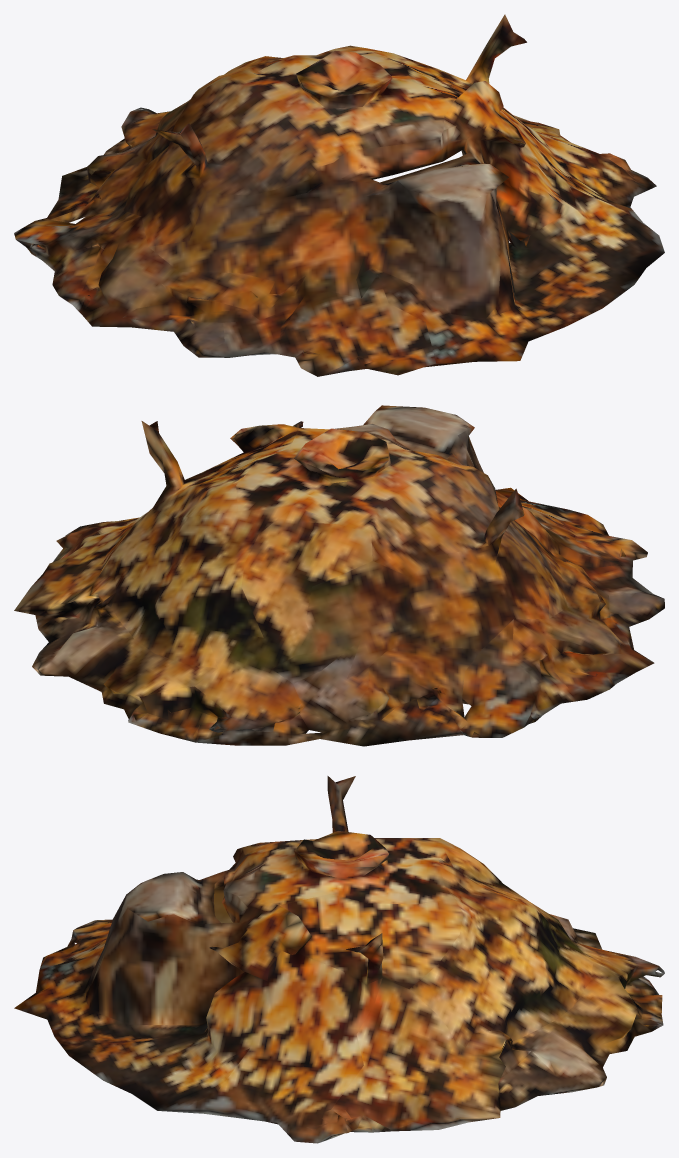
Rendered from FallDecor_BossRoom_LeafMound.fbx.
The picture shows the model from 3 angles, top to bottom: view 1: azimuth 30°, elevation 25°; view 2: azimuth 150°, elevation 25°; view 3: azimuth 270°, elevation 25°; orthographic projection. The views are drawn at different scales.
Parts seen in each view (by area): view 1: FallDecor_BossRoom_LeafMound_Mesh; view 2: FallDecor_BossRoom_LeafMound_Mesh; view 3: FallDecor_BossRoom_LeafMound_Mesh.
Boxes of the visible parts, <box> form: FallDecor_BossRoom_LeafMound_Mesh: <box>14,14,664,376</box>; FallDecor_BossRoom_LeafMound_Mesh: <box>14,405,664,746</box>; FallDecor_BossRoom_LeafMound_Mesh: <box>14,776,664,1143</box>.
Bounding box in the file's own units: 5.84 × 1.66 × 6.
1 material, 1 textured.
